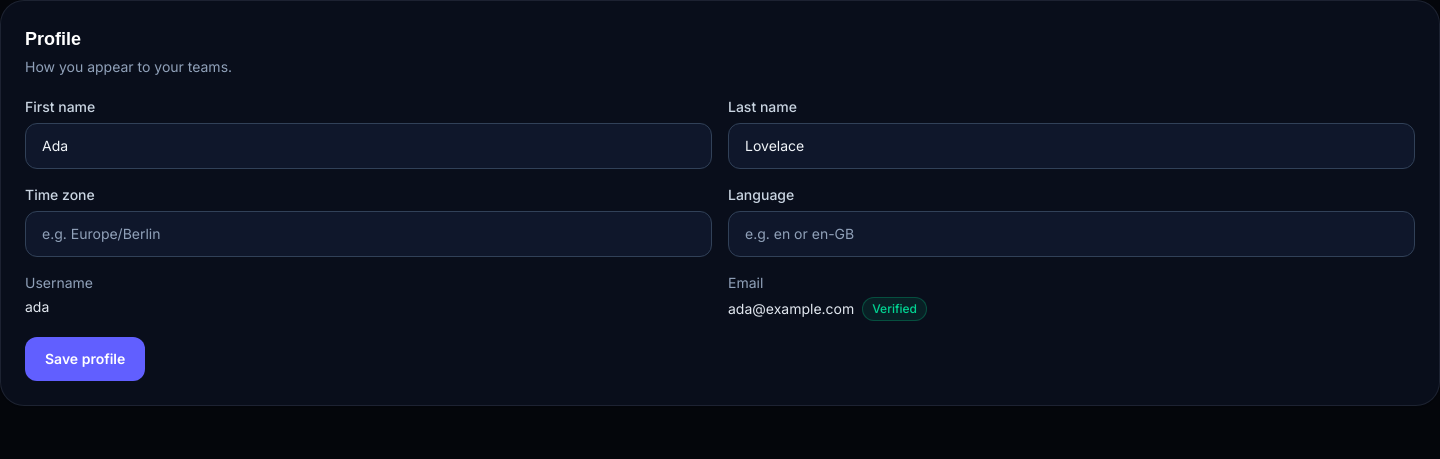
Test: ProfileSection › saves the edited fields and updates the signed-in user
The width and height of the screenshot is (1440, 459).
Replace the text in the field labelled "First name" with "Augusta": [368, 146] box [25,123,712,169]
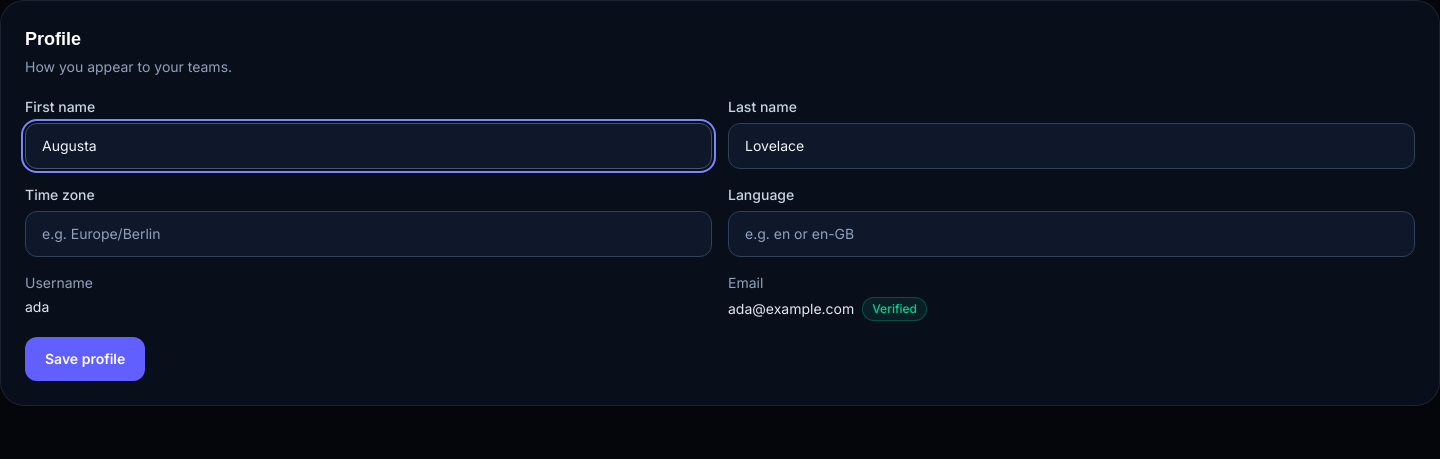
In the field labelled "Time zone": [368, 234] box [25,211,712,257], type "Europe/London"
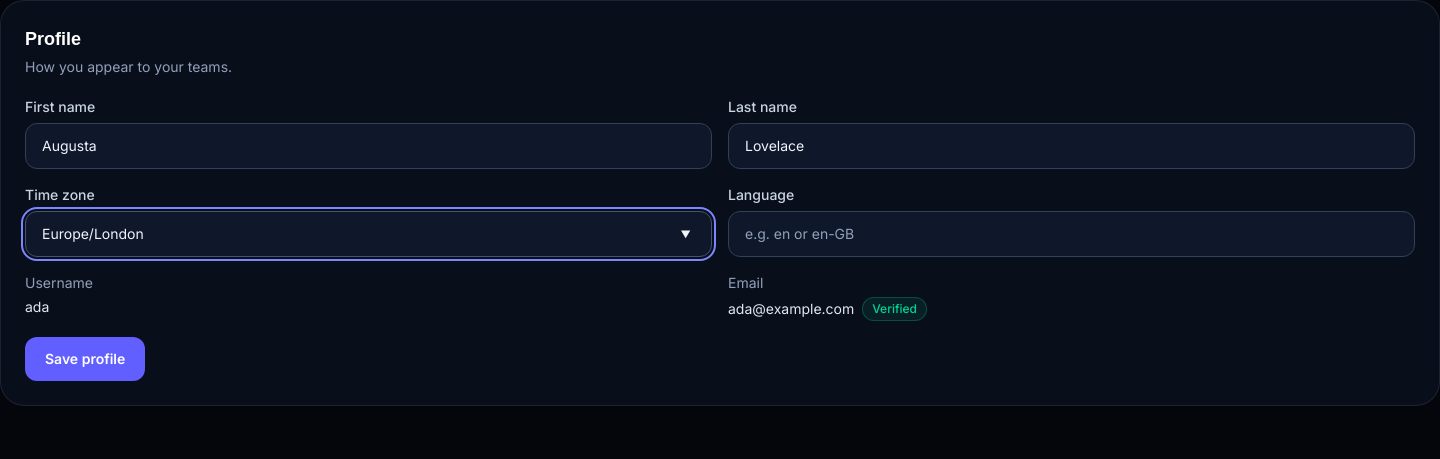
Click the button "Save profile": [85, 359] box [25,337,145,381]
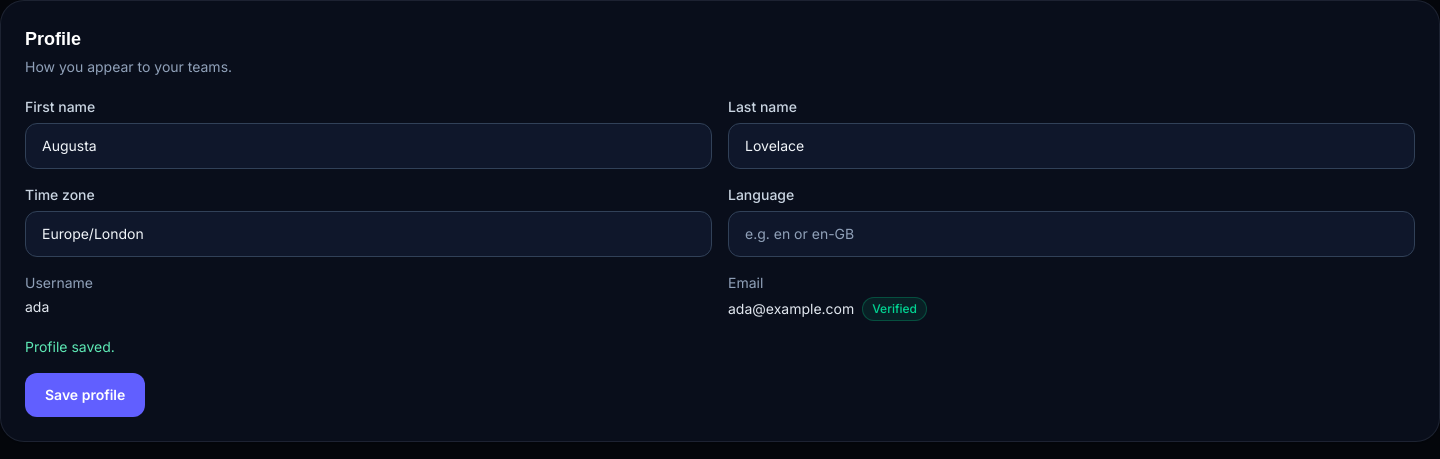
Check: the message shows "Profile saved", box [25,338,115,355]
